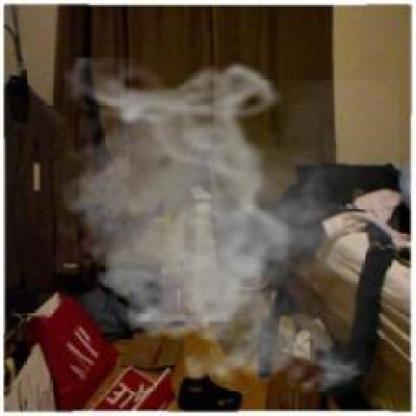Smoke: (48, 57, 400, 404)
